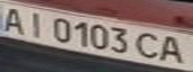0: (87, 21, 112, 52), (48, 15, 72, 44)
1: (69, 19, 90, 47)
3: (109, 25, 133, 55)
A: (157, 34, 190, 65), (0, 4, 30, 34)
C: (133, 29, 163, 61)
I: (21, 9, 51, 38)
